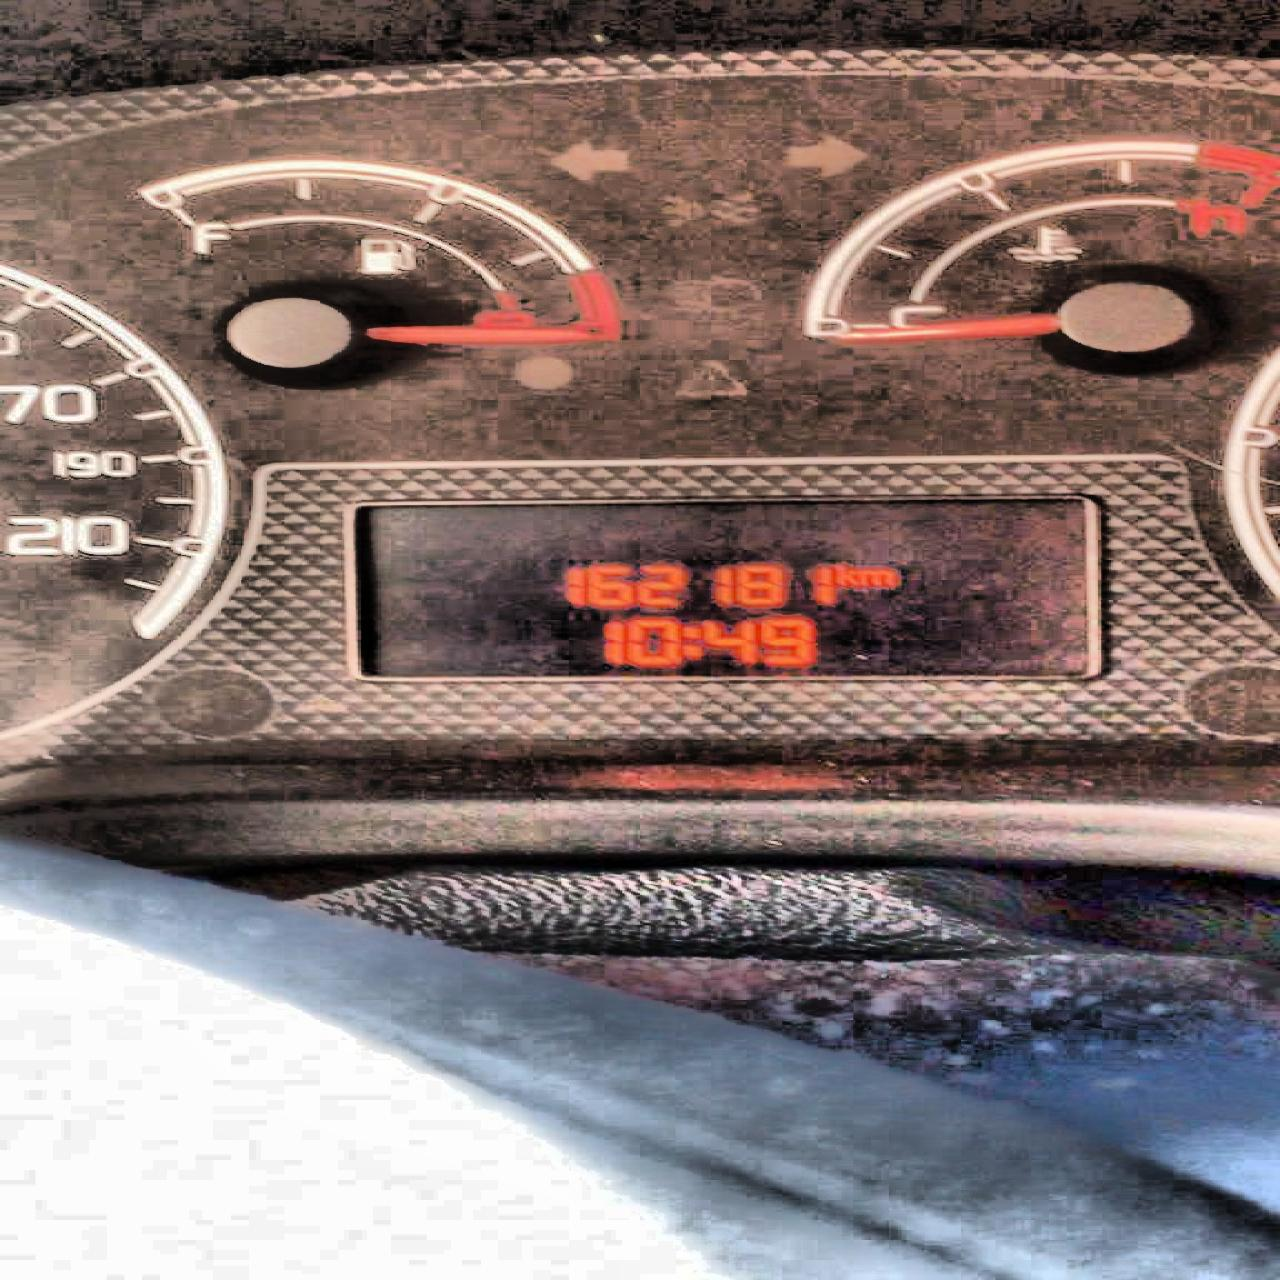0: (625, 618, 680, 665)
1: (600, 619, 625, 663), (563, 566, 585, 606), (811, 566, 833, 604), (712, 566, 733, 605)
2: (633, 565, 685, 605)
4: (700, 619, 756, 663)
6: (585, 565, 633, 606)
8: (731, 564, 782, 605)
9: (756, 618, 813, 663)
X: (678, 625, 700, 656), (856, 568, 893, 585), (833, 564, 856, 585)
odometer: (340, 490, 1107, 685)
